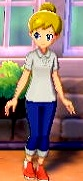woman_no_egg: (4, 2, 75, 180)
